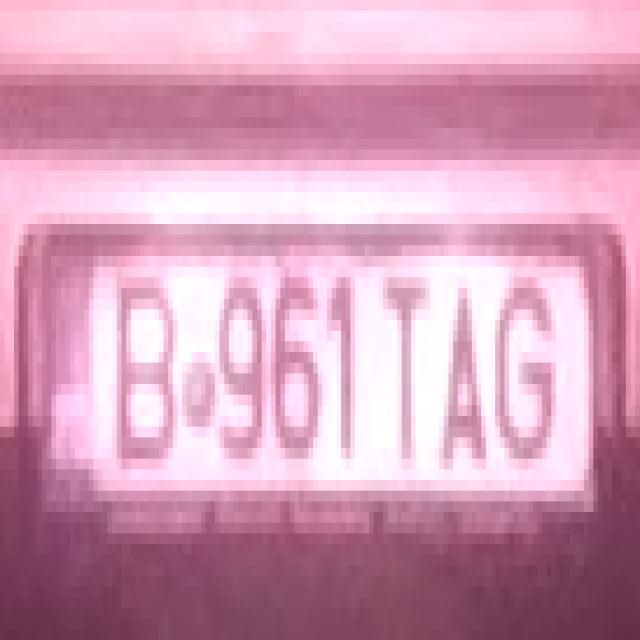Autre: (15, 234, 623, 533)
